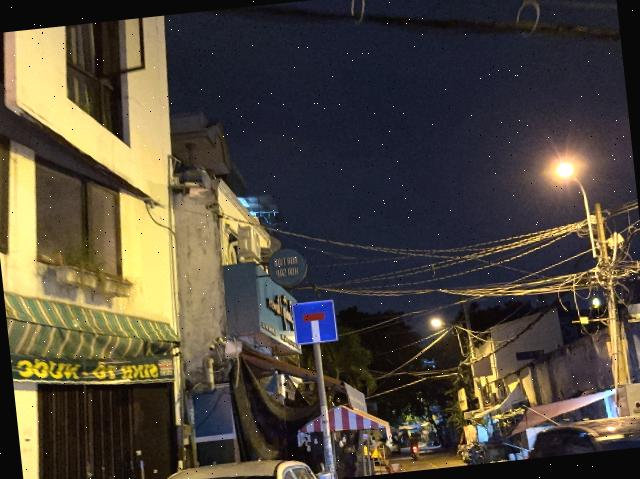duong-cut: (291, 300, 338, 345)
